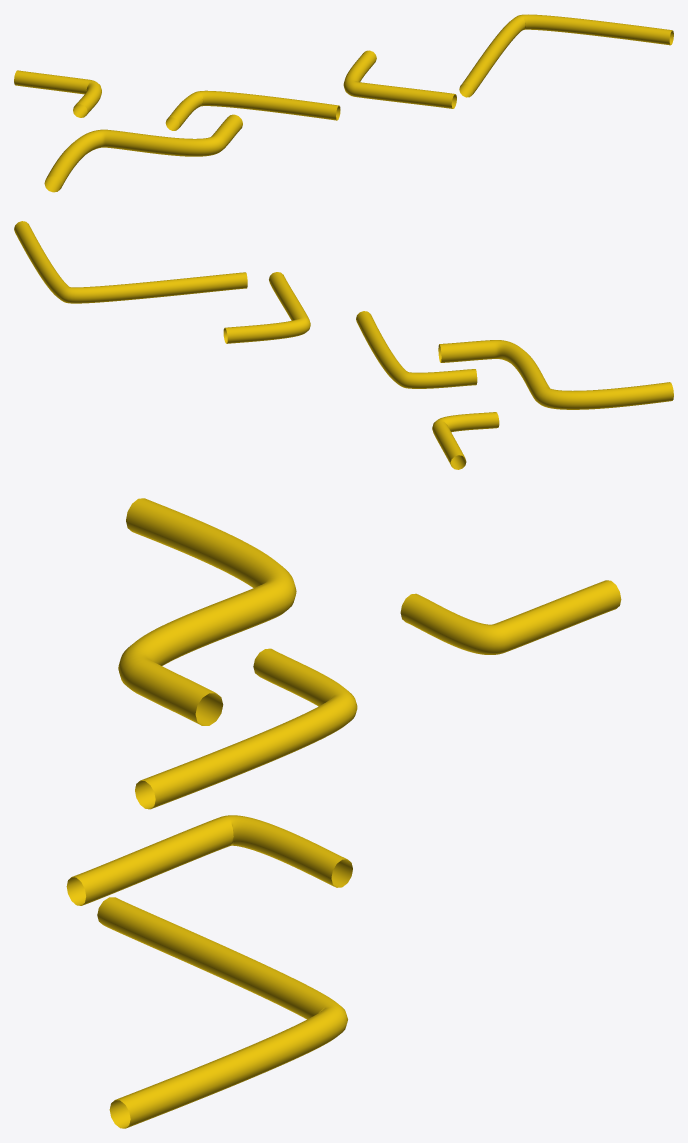
The model's file is aksara_lette.fbx.
3 views of the same model, one above another, from view 1: azimuth 30°, elevation 25°; view 2: azimuth 150°, elevation 25°; view 3: azimuth 270°, elevation 25° (orthographic). The views are drawn at different scales.
Parts seen in each view (by area): view 1: BézierCurve.002; view 2: BézierCurve.002; view 3: BézierCurve.002.
Boxes of the visible parts, x1=… form: BézierCurve.002: x1=14, y1=14, x2=673, y2=192; BézierCurve.002: x1=14, y1=221, x2=673, y2=469; BézierCurve.002: x1=66, y1=498, x2=621, y2=1128.
Bounding box in the file's own units: 13378 × 334 × 5145.
